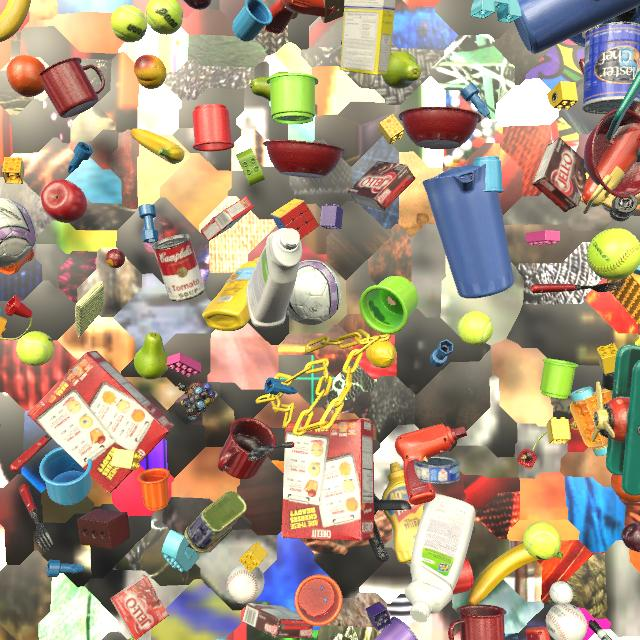ycb_002_master_chef_can: (582, 22, 640, 114)
ycb_003_cracker_box: (27, 351, 175, 493), (281, 419, 374, 540)
ycb_004_sugar_box: (340, 0, 395, 75)
ycb_005_tomato_soup_can: (152, 234, 205, 302), (594, 0, 601, 1)
ycb_006_mustard_bottle: (382, 462, 424, 564), (202, 257, 259, 331)
ycb_007_tuna_fish_can: (414, 456, 460, 484)
ycb_008_pudding_box: (532, 137, 588, 212), (347, 161, 416, 211), (242, 603, 313, 638), (637, 57, 640, 72), (341, 41, 342, 45)
ycb_009_gelatin_box: (110, 575, 169, 640), (200, 196, 254, 241)
ycb_010_potted_meat_can: (184, 491, 247, 552)
ycb_011_banana: (468, 543, 563, 606), (130, 128, 185, 164), (0, 0, 31, 42)
ycb_013_apple: (41, 179, 87, 223)
ycb_014_lemon: (366, 341, 396, 368)
ycb_015_peach: (134, 55, 167, 89)
ycb_016_pear: (134, 332, 169, 380), (382, 51, 421, 89), (250, 71, 289, 102)
ycb_017_orange: (7, 55, 46, 97), (611, 474, 640, 502)
ycb_018_plum: (622, 522, 640, 553), (184, 0, 211, 10)
